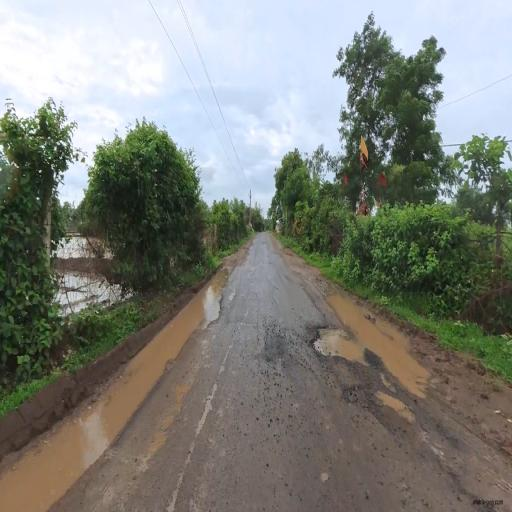edge_damage: (260, 269, 331, 467)
pothole: (369, 386, 415, 458)
